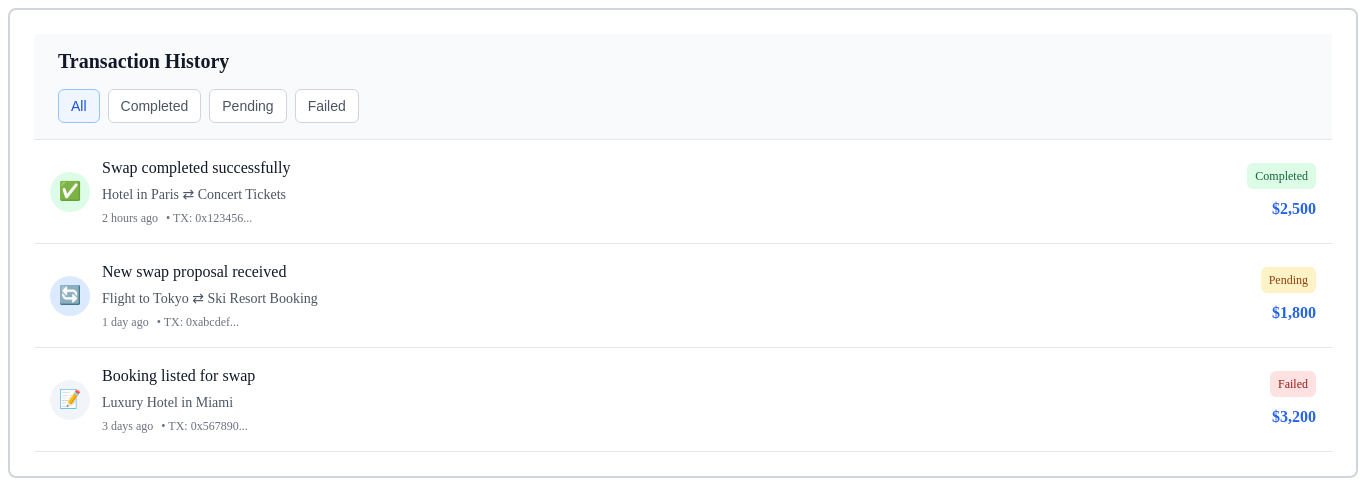
Scenario: TransactionHistory › filters transactions by status
Note: Click on "Completed" filter button (not the status badge)
Click the button "Completed". click: (154, 106)
box: [108,89,201,123]
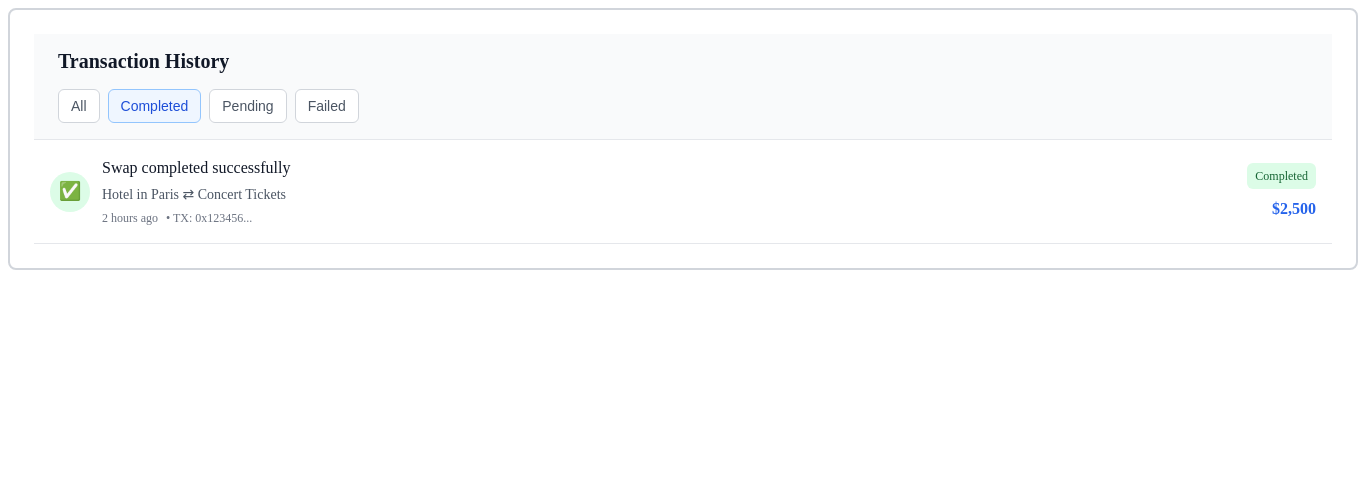
Expected: the text "Swap completed successfully" is shown, [102,159,290,176]
Expected: the text "New swap proposal received" is gone
Expected: the text "Booking listed for swap" is gone
